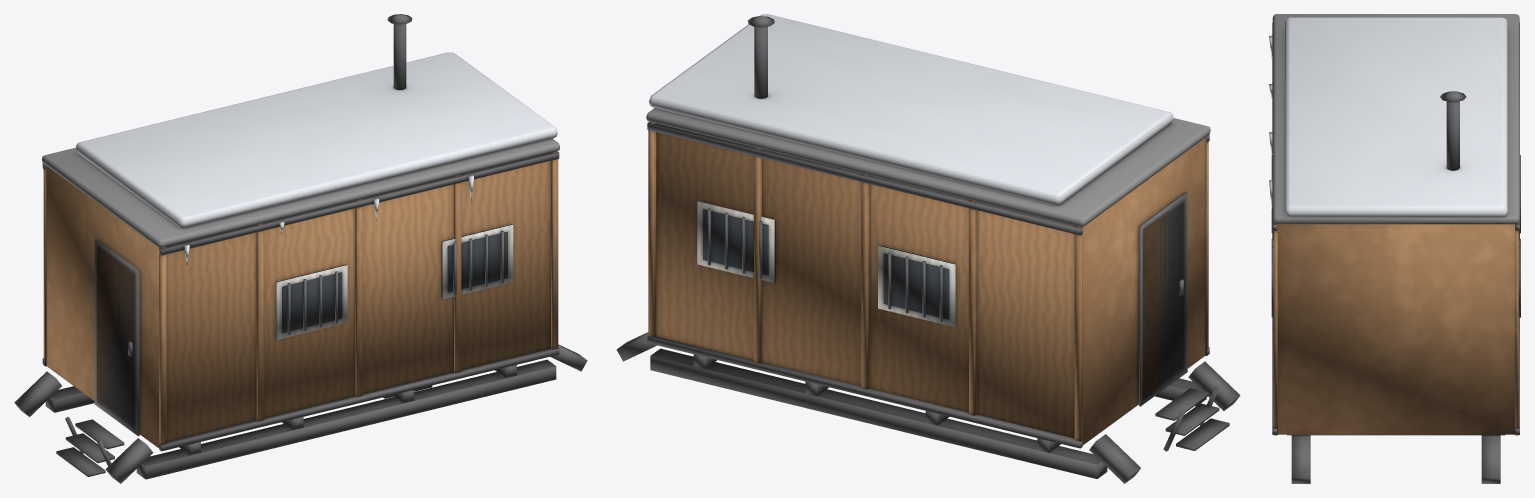
The model's file is kung.glb.
The picture shows the model from 3 angles, left to right: view 1: azimuth 30°, elevation 25°; view 2: azimuth 150°, elevation 25°; view 3: azimuth 270°, elevation 25°; orthographic projection. The views are drawn at different scales.
Parts seen in each view (by area): view 1: kung; view 2: kung; view 3: kung.
Boxes of the visible parts, x1=… form: kung: x1=14, y1=14, x2=587, y2=483; kung: x1=616, y1=14, x2=1240, y2=483; kung: x1=1269, y1=14, x2=1520, y2=483.
Bounding box in the file's own units: 6.1 × 4.04 × 2.65.
Materials: 1 (1 with a texture image).
